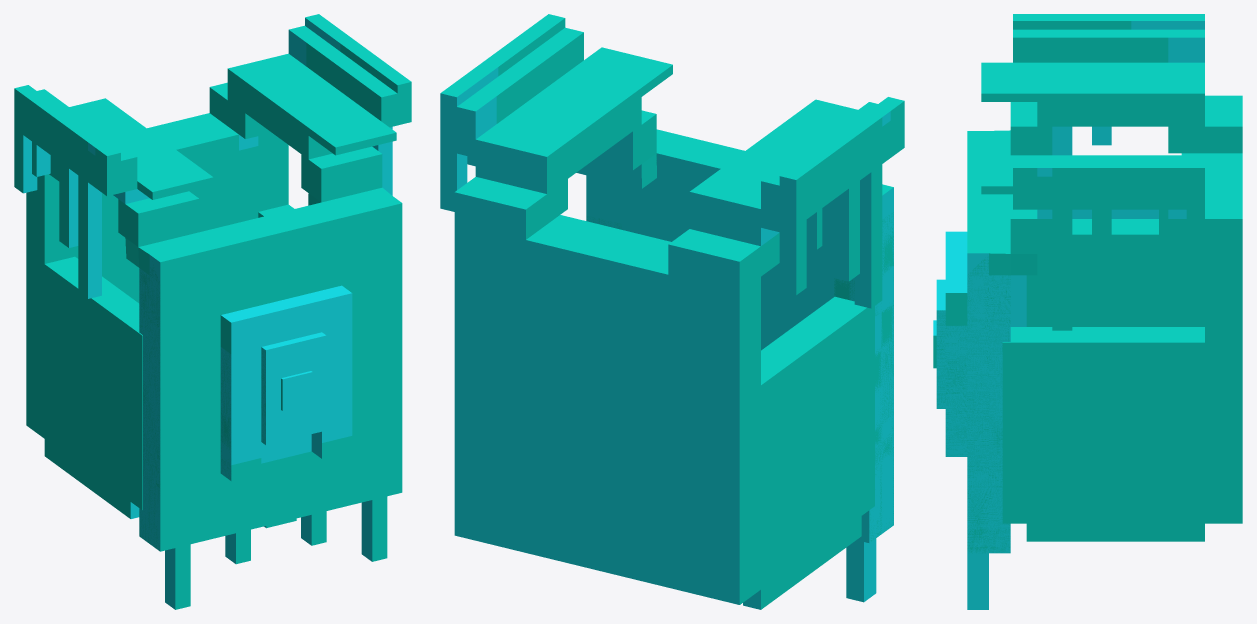
The model's file is ArmorIce.fbx.
The picture shows the model from 3 angles, left to right: view 1: azimuth 30°, elevation 25°; view 2: azimuth 150°, elevation 25°; view 3: azimuth 270°, elevation 25°; orthographic projection. The views are drawn at different scales.
Visible parts, largest first — view 1: Cube; view 2: Cube; view 3: Cube.
Part boxes in pixels (x1,y1,x2,y2): Cube: [14, 14, 411, 609]; Cube: [440, 14, 904, 609]; Cube: [933, 14, 1242, 609].
Size of the model in its own units: 50.3 by 70.84 by 42.68.
